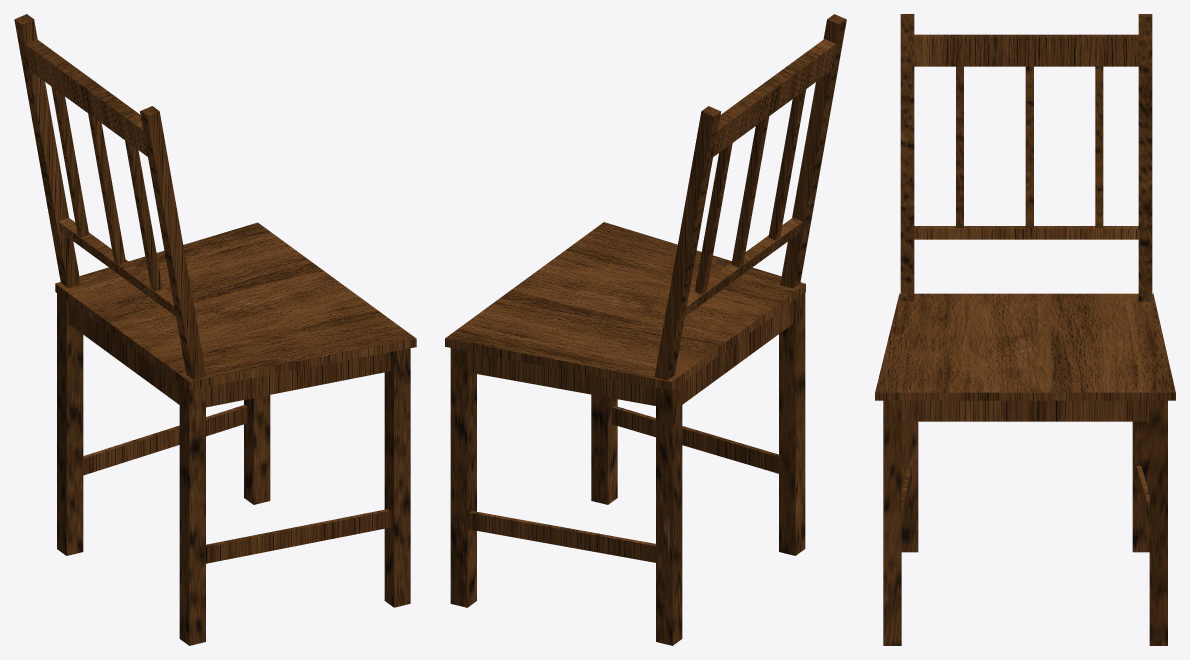
The model's file is chair.fbx.
The picture shows the model from 3 angles, left to right: view 1: azimuth 30°, elevation 25°; view 2: azimuth 150°, elevation 25°; view 3: azimuth 270°, elevation 25°; orthographic projection. The views are drawn at different scales.
Parts seen in each view (by area): view 1: Cube.001; view 2: Cube.001; view 3: Cube.001.
Boxes of the visible parts, x1,y1,x2,y2 form: Cube.001: [14, 14, 416, 645]; Cube.001: [445, 14, 846, 645]; Cube.001: [875, 14, 1175, 645].
Bounding box in the file's own units: 1280 × 2603 × 1374.
Materials: 1 (1 with a texture image).
